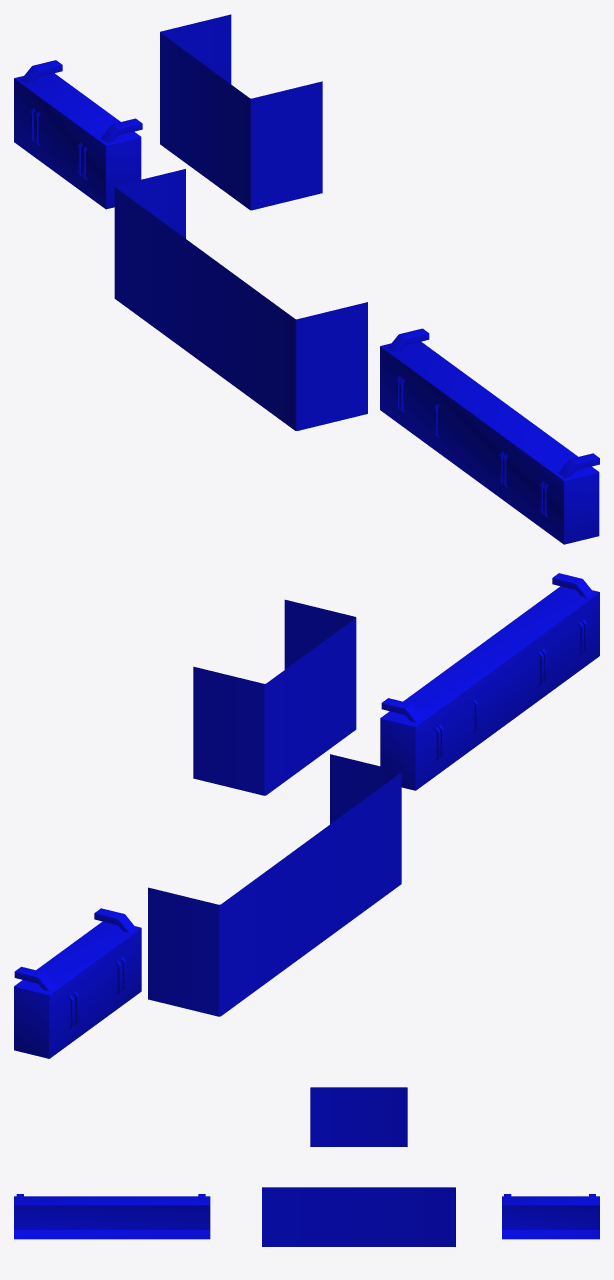
File: Drawers_Combi.FBX
3 views of the same model, one above another, from view 1: azimuth 30°, elevation 25°; view 2: azimuth 150°, elevation 25°; view 3: azimuth 270°, elevation 25° (orthographic). The views are drawn at different scales.
Parts seen in each view (by area): view 1: Drawers_Large, Cabinet_Overhead_2.5, Drawers_Small, Cabinet_Overhead_1.25; view 2: Drawers_Large, Drawers_Small, Cabinet_Overhead_2.5, Cabinet_Overhead_1.25; view 3: Drawers_Large, Cabinet_Overhead_2.5, Drawers_Small, Cabinet_Overhead_1.25.
Boxes of the visible parts, <box> form: Drawers_Large: <box>114,169,367,430</box>; Cabinet_Overhead_2.5: <box>380,328,599,544</box>; Drawers_Small: <box>160,14,322,210</box>; Cabinet_Overhead_1.25: <box>14,60,142,209</box>; Drawers_Large: <box>148,754,401,1016</box>; Drawers_Small: <box>193,599,356,795</box>; Cabinet_Overhead_2.5: <box>380,573,599,790</box>; Cabinet_Overhead_1.25: <box>14,908,141,1058</box>; Drawers_Large: <box>262,1187,455,1246</box>; Cabinet_Overhead_2.5: <box>14,1194,210,1239</box>; Drawers_Small: <box>310,1087,407,1146</box>; Cabinet_Overhead_1.25: <box>502,1194,599,1239</box>.
Size of the model in its own units: 22.71 by 88.26 by 294.
